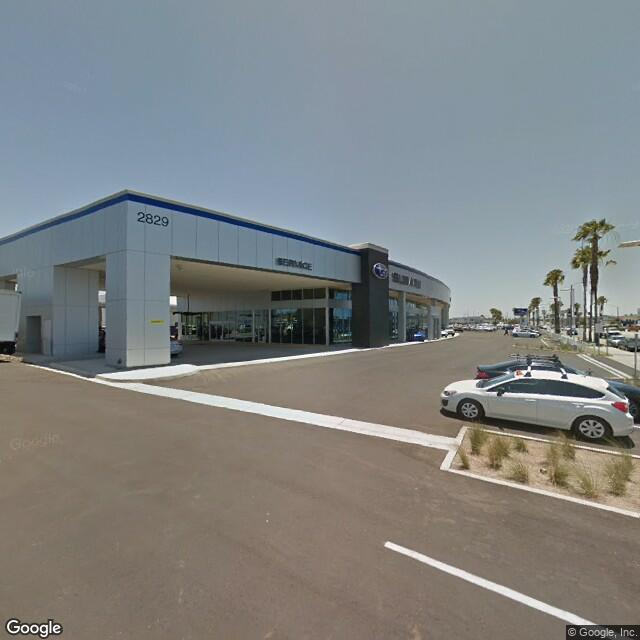litter: (539, 467, 551, 476)
